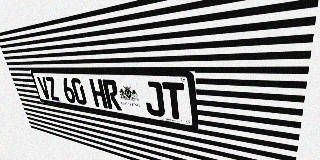0: (70, 78, 88, 105)
6: (60, 77, 77, 104)
H: (89, 79, 108, 108)
J: (142, 81, 165, 117)
R: (102, 79, 122, 111)
T: (162, 82, 186, 121)
V: (37, 76, 52, 100)
Z: (45, 77, 60, 101)
